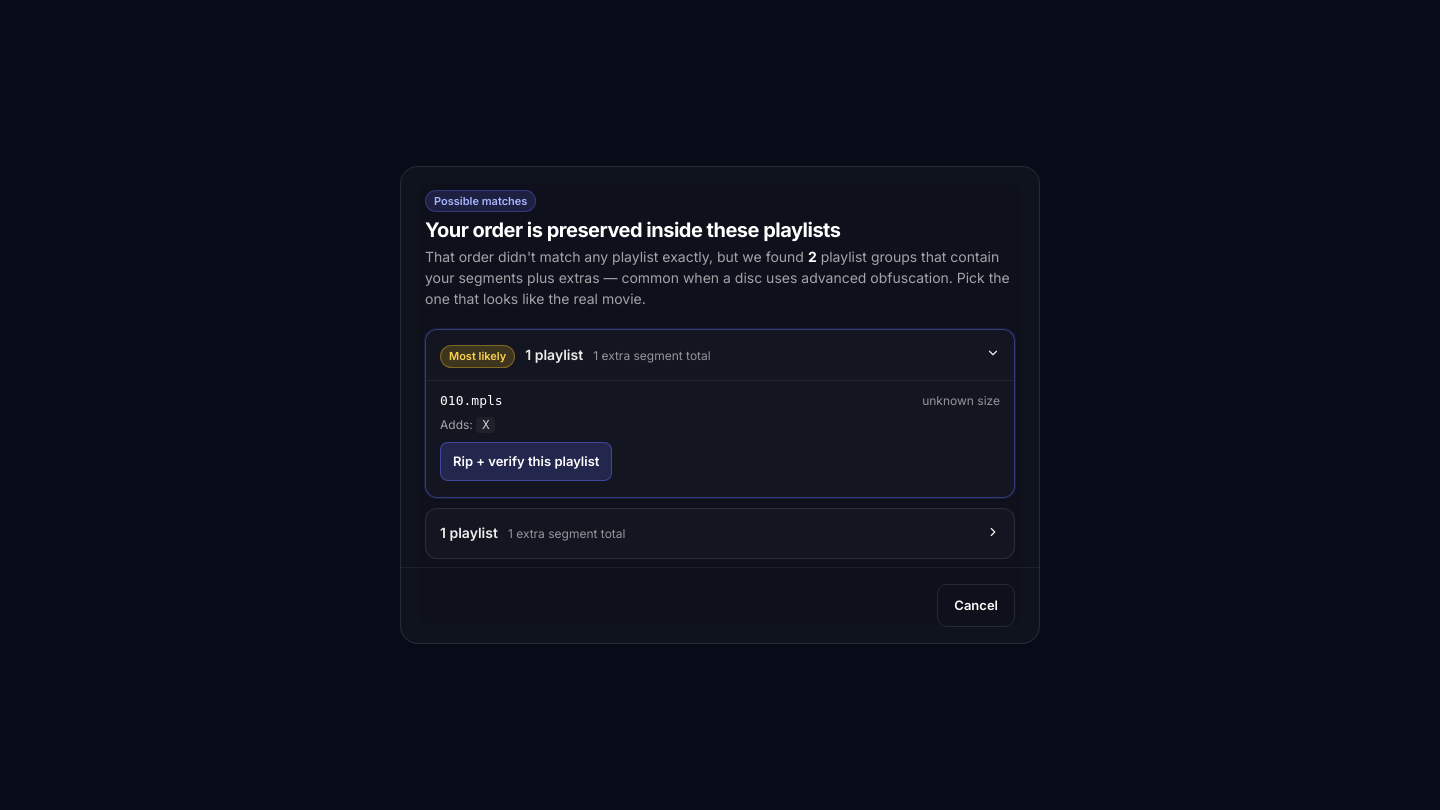
Test: SegmentSupersetPickerComponent › toggleCluster expands a collapsed cluster and collapses the prior one
Click the button with class "ssp-cluster-head" that starts with "1 playlist": click(469, 533) 426,509 -> 1014,558
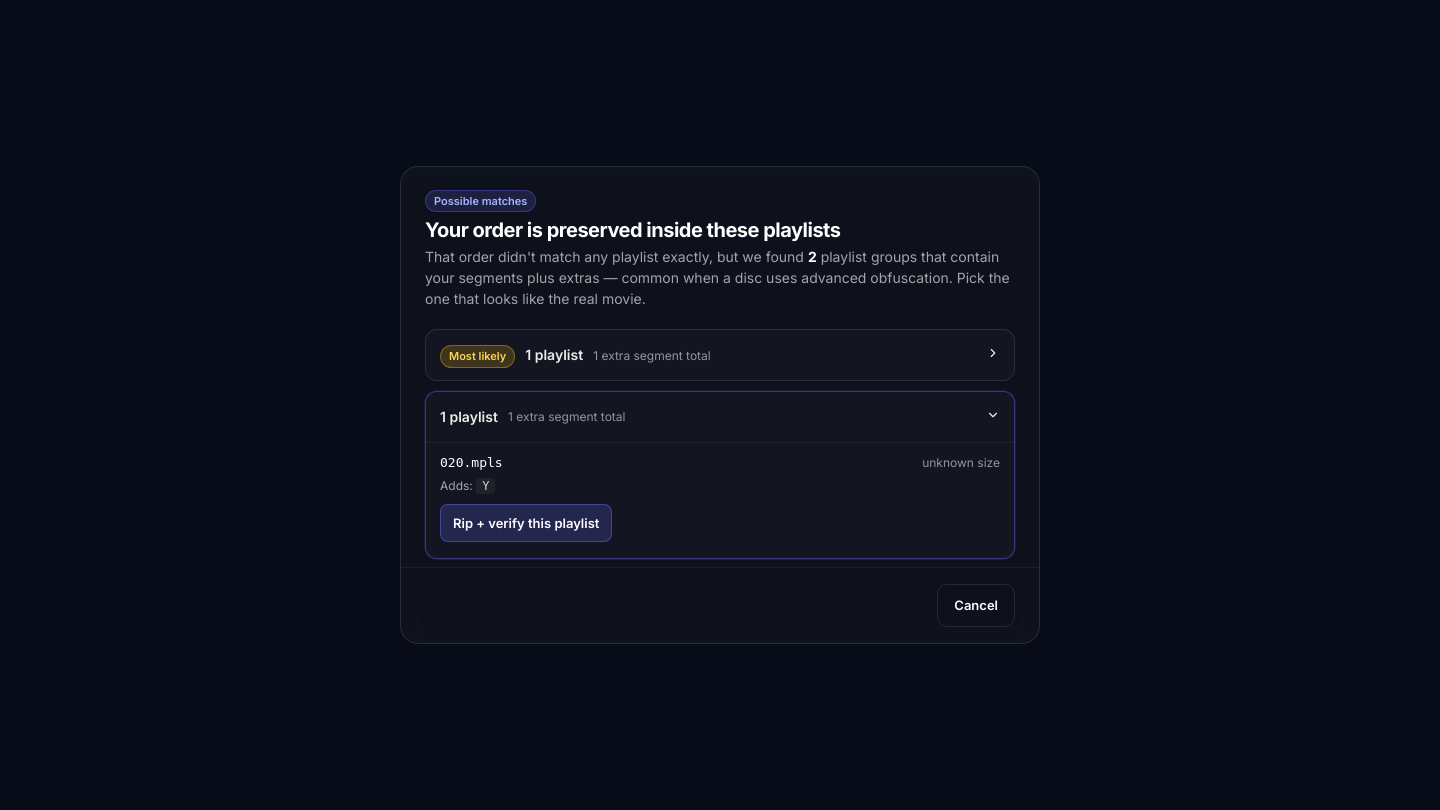
Check: the number of list items with class "ssp-candidate" is 1, box 426,442 -> 1014,552
Check: the text "020.mpls" is shown, box 440,452 -> 503,473
Check: the text "010.mpls" is gone
